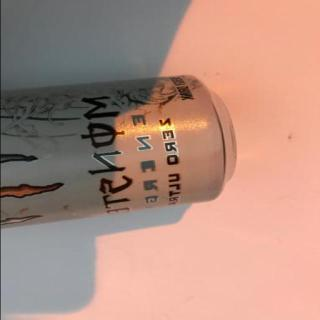Anorganik: (0, 75, 240, 226)
